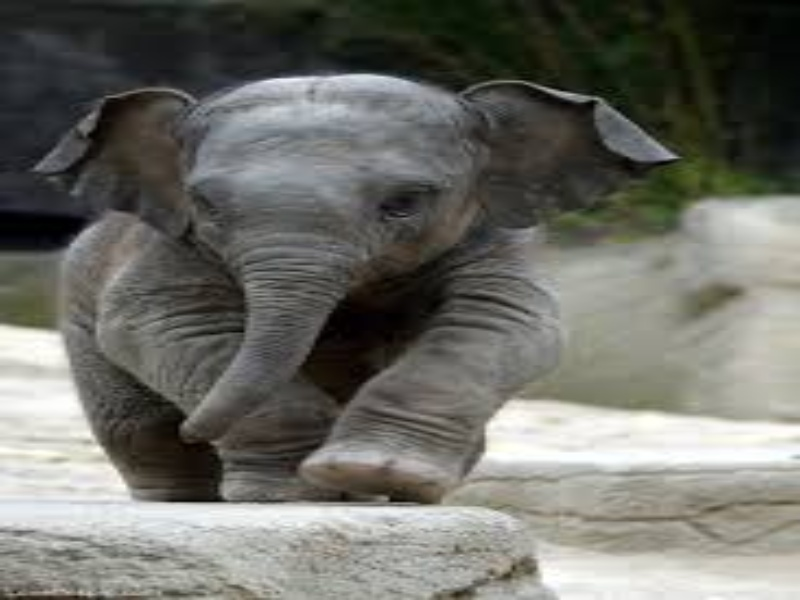elephant: (44, 78, 646, 507)
